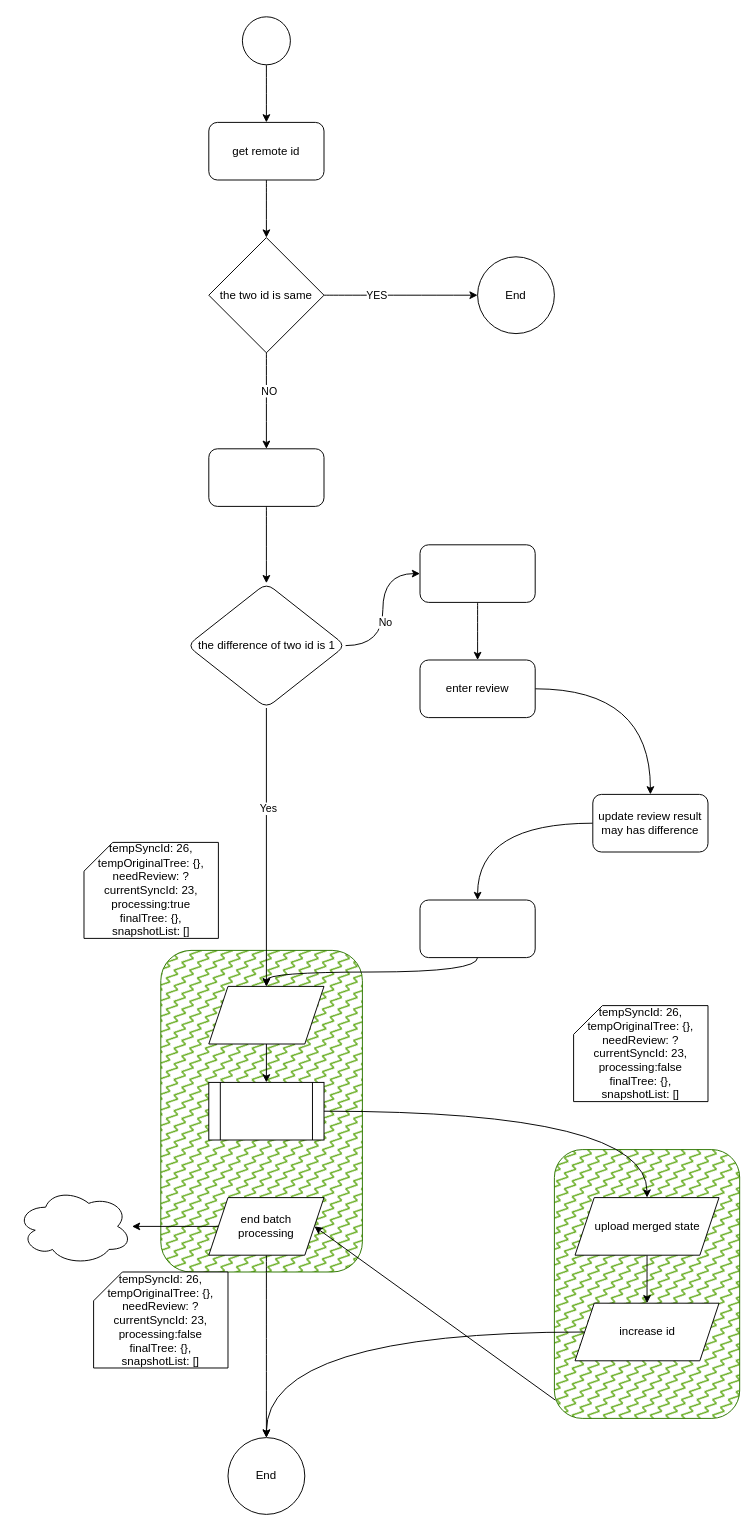
This 756x1531 diagram has some shape labels left out. Each missing label, with the box of its shape:
begin batch processing: (208, 985, 324, 1044)
end review: (419, 899, 535, 958)
get latest record: (208, 448, 324, 506)
need review: (419, 544, 535, 602)
Processing bookmarks: (208, 1081, 324, 1140)
Start: (241, 16, 290, 65)
update ui: (16, 1187, 132, 1265)
